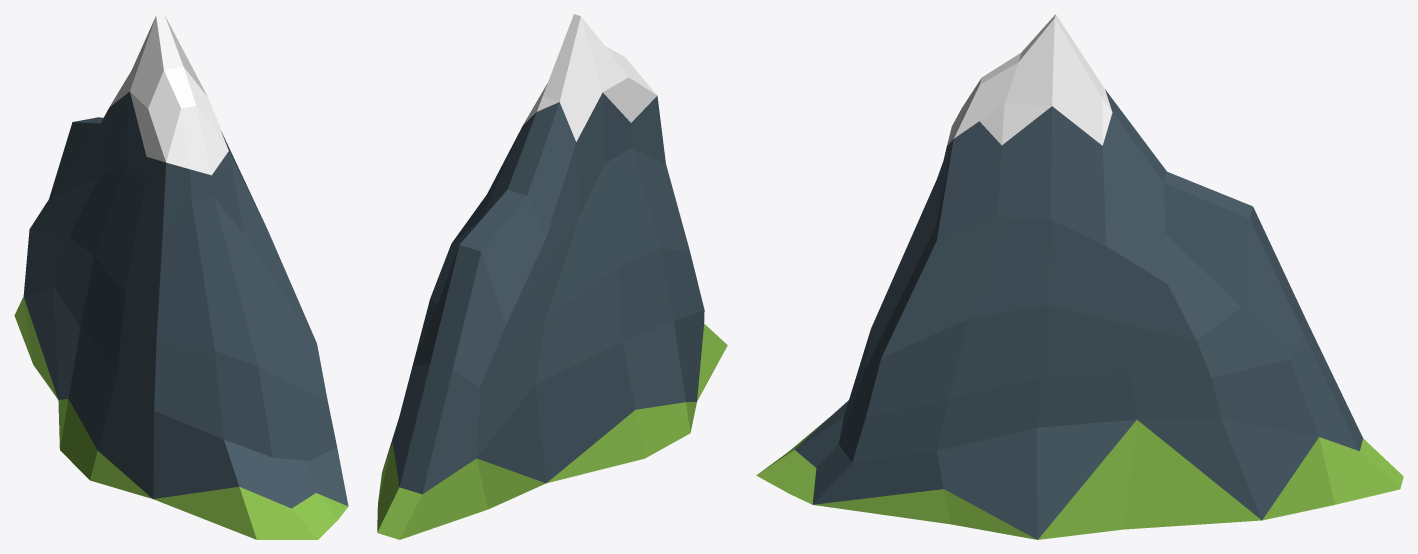
File: mountain_13_lev1.glb
The picture shows the model from 3 angles, left to right: view 1: azimuth 30°, elevation 25°; view 2: azimuth 150°, elevation 25°; view 3: azimuth 270°, elevation 25°; orthographic projection. The views are drawn at different scales.
Visible parts, largest first — view 1: mountain_13_lev1; view 2: mountain_13_lev1; view 3: mountain_13_lev1.
Boxes of the visible parts, left/top/right/bottom form: mountain_13_lev1: left=14, top=14, right=348, bottom=539; mountain_13_lev1: left=377, top=14, right=727, bottom=539; mountain_13_lev1: left=756, top=14, right=1403, bottom=539.
Bounding box in the file's own units: 13.33 × 23.07 × 30.04.
